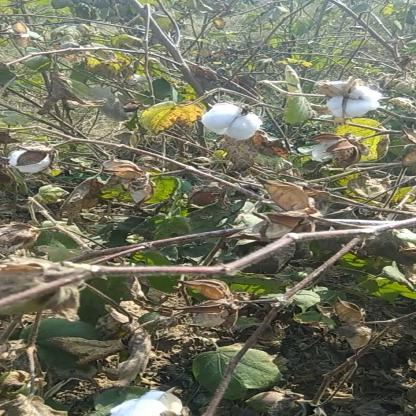cotton_ready: (183, 100, 280, 151), (307, 79, 392, 129), (85, 382, 200, 416), (11, 138, 74, 190)
